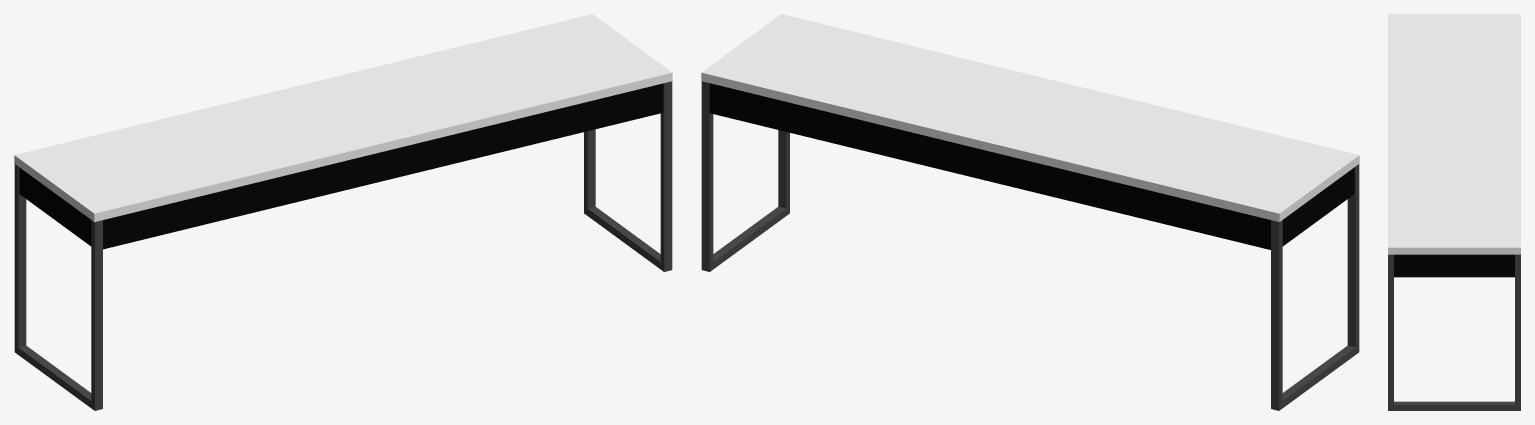
The model's file is Prop_Desk_06.fbx.
3 views of the same model, side by side, from view 1: azimuth 30°, elevation 25°; view 2: azimuth 150°, elevation 25°; view 3: azimuth 270°, elevation 25° (orthographic). The views are drawn at different scales.
Visible parts, largest first — view 1: Prop_Desk_06; view 2: Prop_Desk_06; view 3: Prop_Desk_06.
Boxes of the visible parts, x1,y1,x2,y2 form: Prop_Desk_06: (14,14,672,410); Prop_Desk_06: (701,14,1359,410); Prop_Desk_06: (1388,14,1520,410).
Bounding box in the file's own units: 250 × 81.54 × 60.
